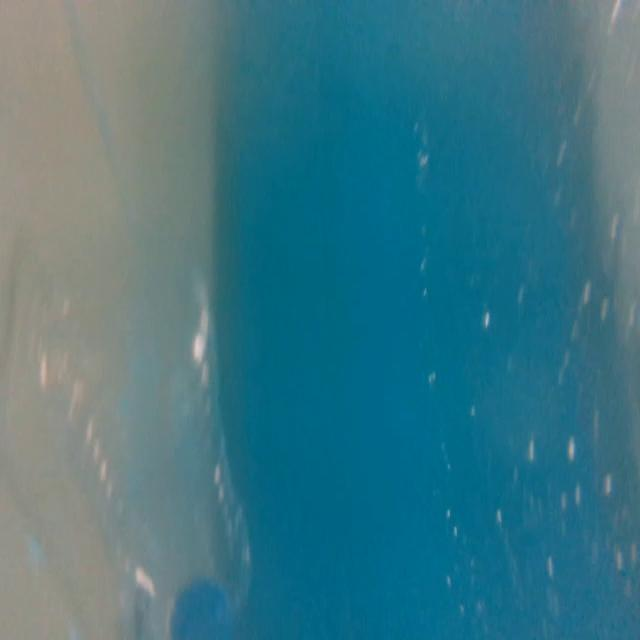plastic bottle: (16, 225, 261, 640)
